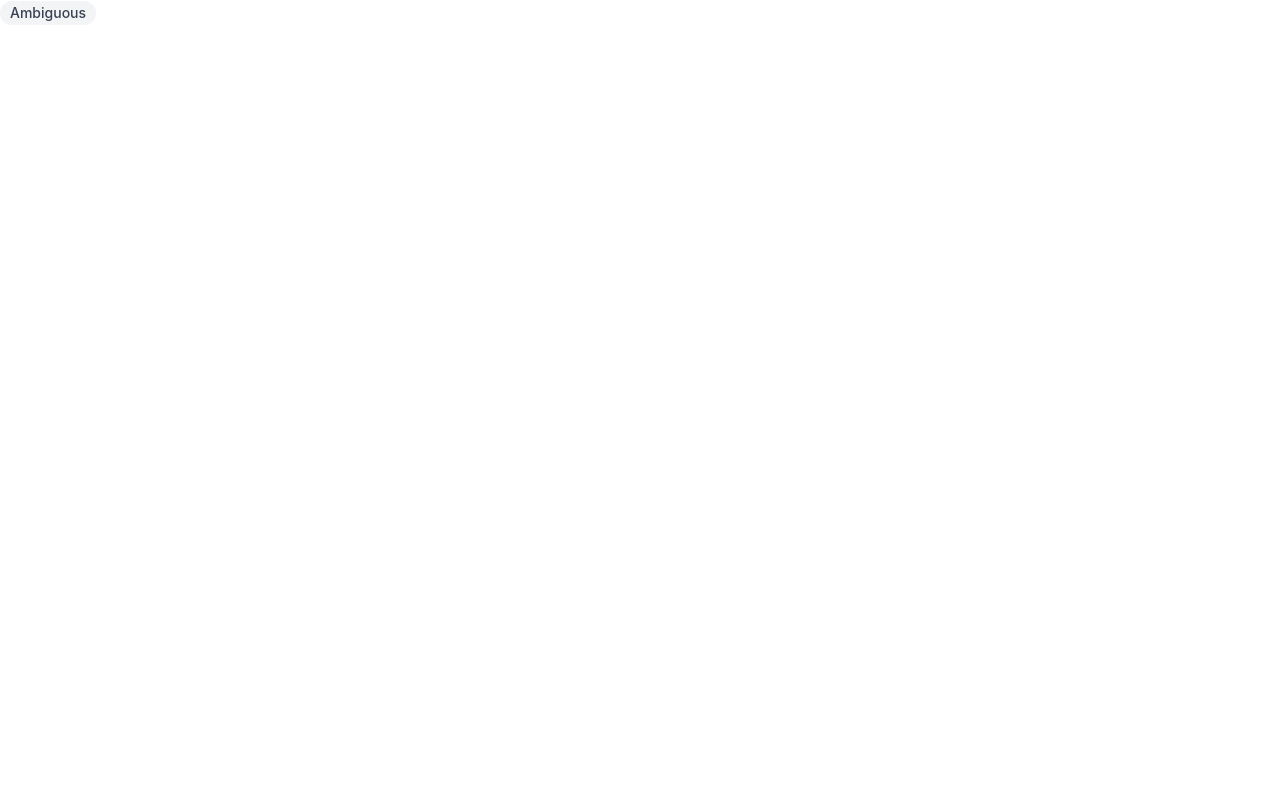
RuleBadge › clicking ambiguous opens the rules modal with every rule and the current one highlighted
Click the button with aria-label "Rule:": [48, 13] box [0,1,96,25]
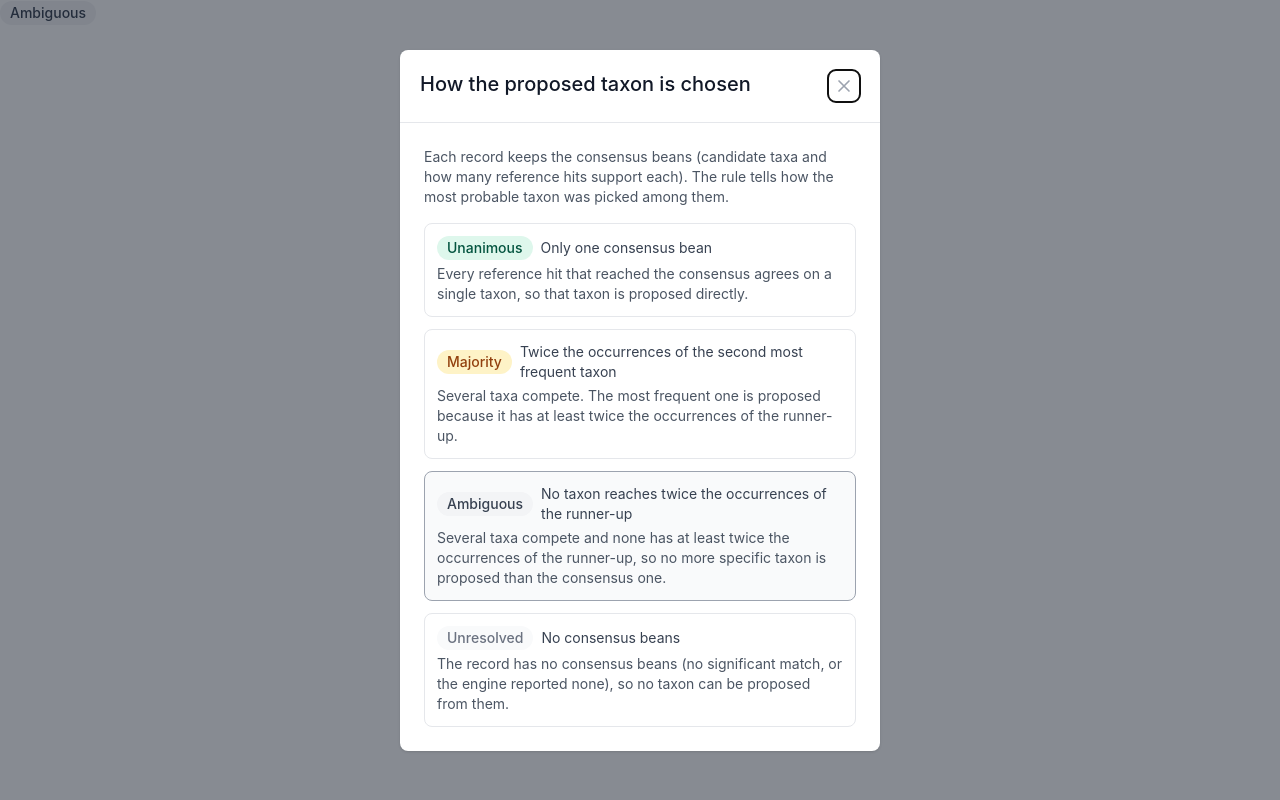
expect the dialog shows "How the proposed taxon is chosen": met, box [420,72,751,96]
expect the list item that starts with "Ambiguous" is shown: met, box [447,494,523,512]
expect the list item that starts with "Ambiguous" shows "Several taxa compete and none has at least twice the occurrences of the runner-up, so no more specific taxon is proposed than the consensus one.": met, box [437,528,826,586]
